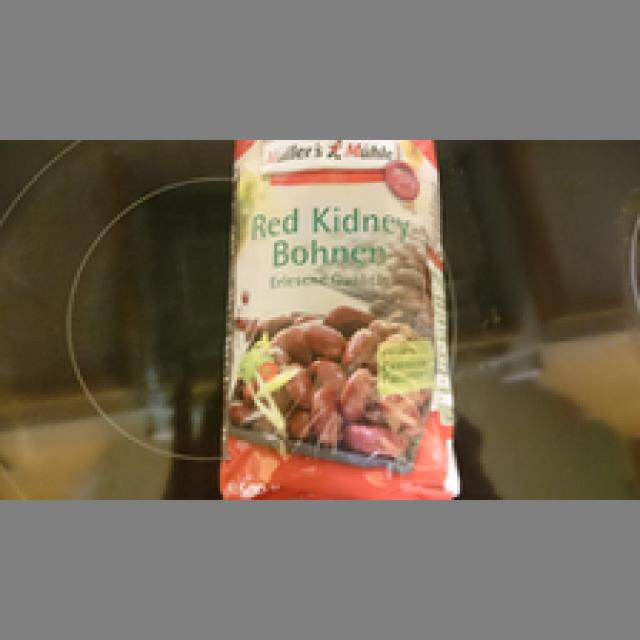groceries: (232, 137, 448, 497)
